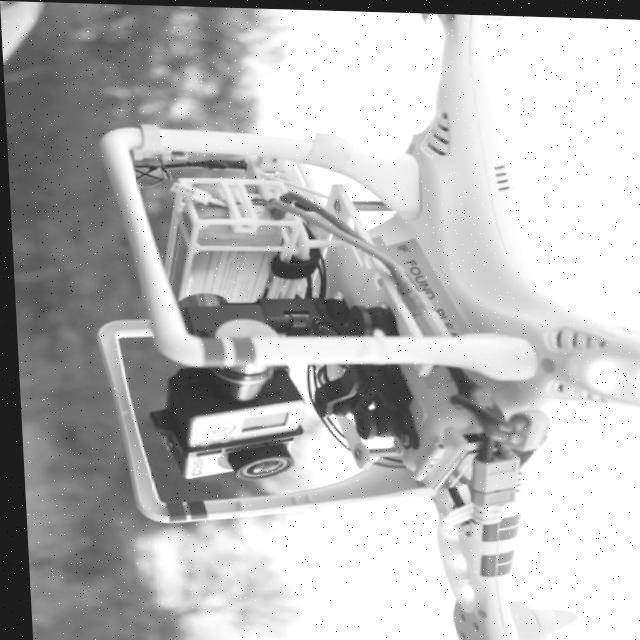drone: (286, 7, 640, 640)
